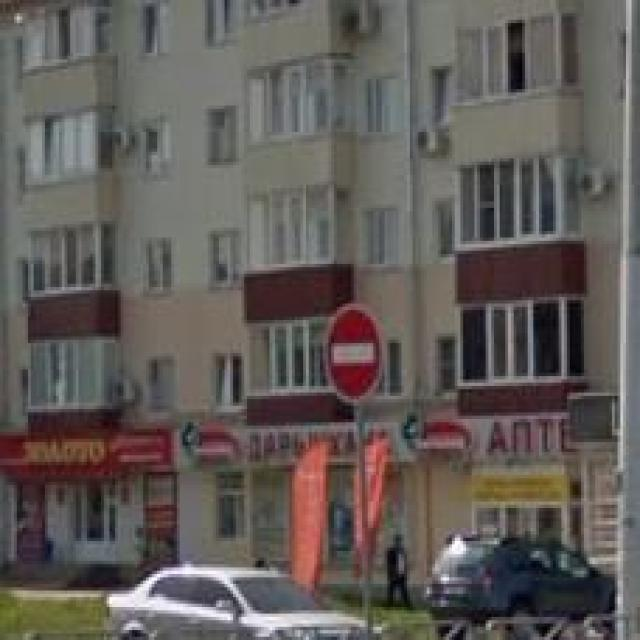Zakaz wjazdu: (322, 300, 384, 406)
